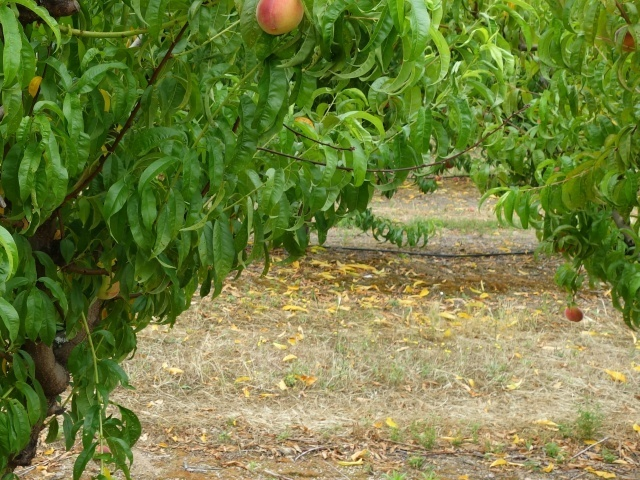peach: (252, 1, 308, 41), (613, 24, 636, 55), (562, 302, 584, 325)
